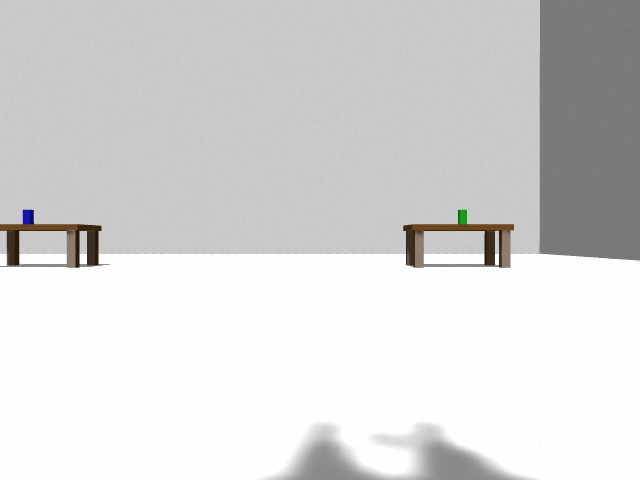blue_cube: (23, 210, 34, 224)
green_cube: (458, 210, 467, 224)
